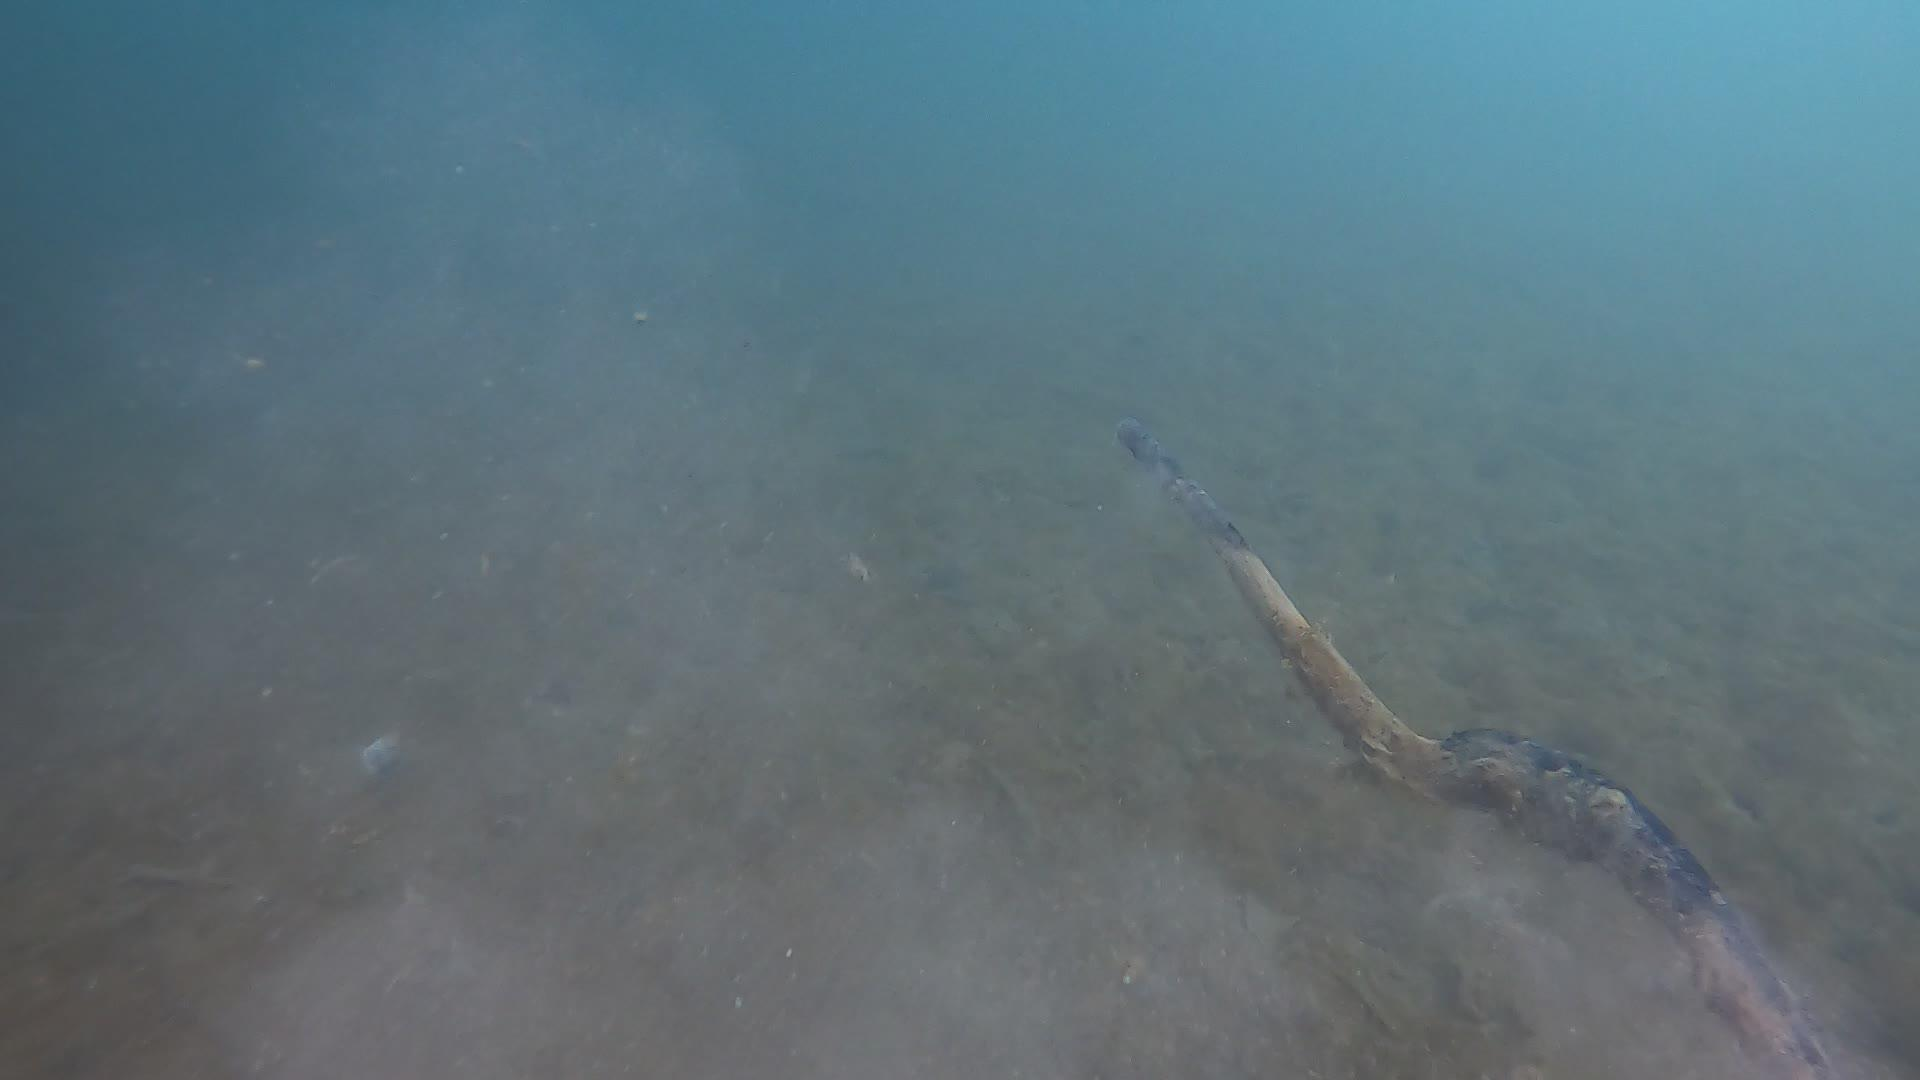wood: (1113, 419, 1837, 1080)
